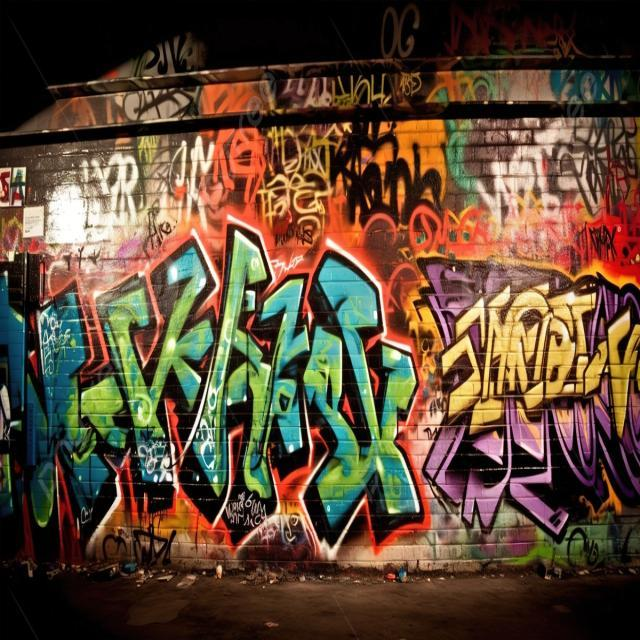-: (0, 216, 425, 551), (90, 72, 640, 256), (415, 254, 640, 544), (447, 7, 580, 62), (102, 526, 180, 564), (380, 4, 422, 63), (567, 519, 603, 569)
